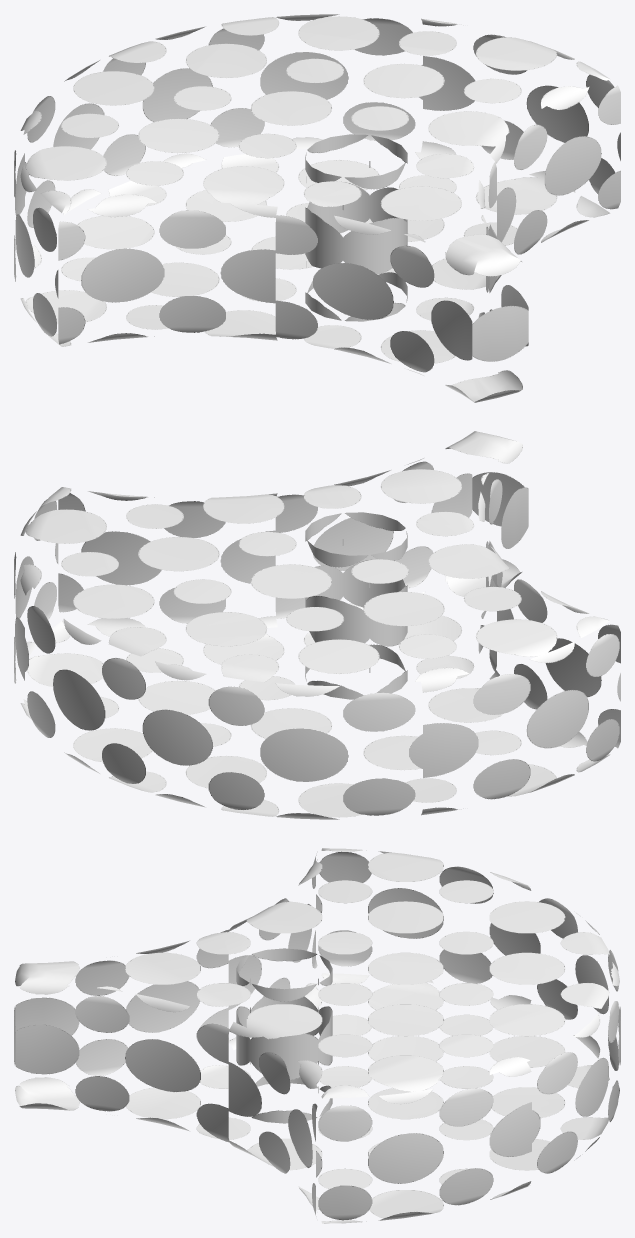
3 views of the same model, one above another, from view 1: azimuth 30°, elevation 25°; view 2: azimuth 150°, elevation 25°; view 3: azimuth 270°, elevation 25° (orthographic). The views are drawn at different scales.
Parts seen in each view (by area): view 1: OriginalScallop.006; view 2: OriginalScallop.006; view 3: OriginalScallop.006.
Boxes of the visible parts, x1,y1,x2,y2 form: OriginalScallop.006: [14, 14, 620, 402]; OriginalScallop.006: [14, 431, 620, 819]; OriginalScallop.006: [14, 848, 620, 1223].
Size of the model in its own units: 295 by 72.02 by 295.
